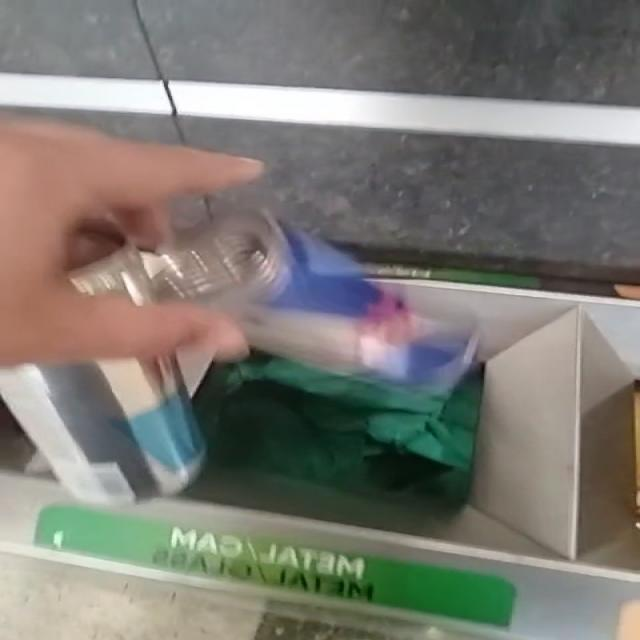bin: (181, 281, 639, 560)
metal: (71, 204, 473, 388)
